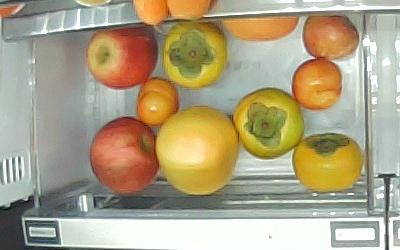apple: (89, 115, 156, 195), (85, 26, 159, 90)
grapefruit: (154, 106, 238, 198)
persimmon: (232, 86, 304, 160), (163, 21, 228, 88), (291, 133, 361, 193)
prune: (290, 59, 343, 110), (303, 14, 360, 60), (135, 76, 178, 126)
